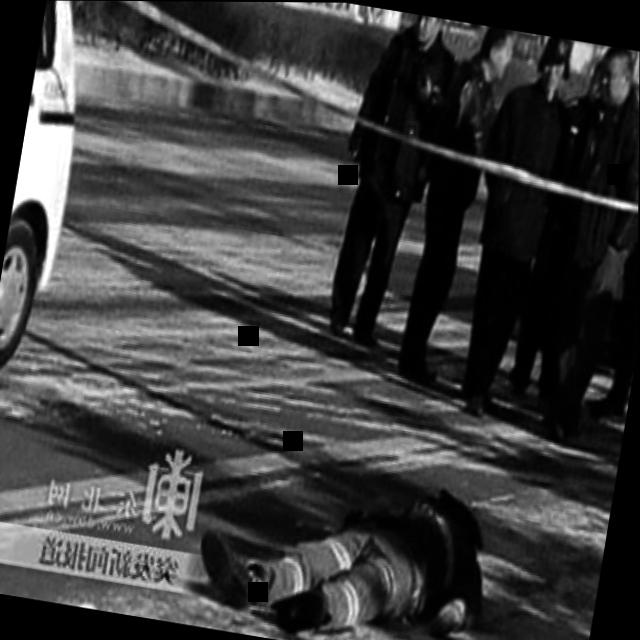Fall-Detected: (179, 427, 527, 640)
